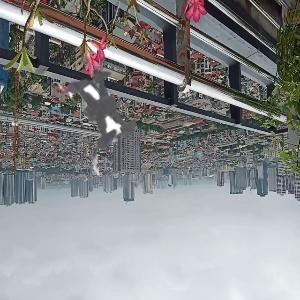drone: (8, 11, 197, 200)
